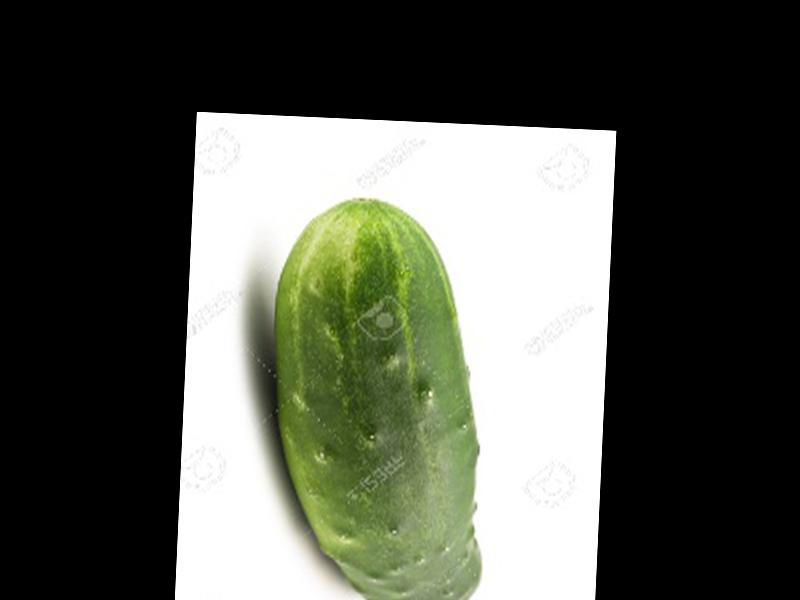Cucumber: (259, 194, 497, 600)
